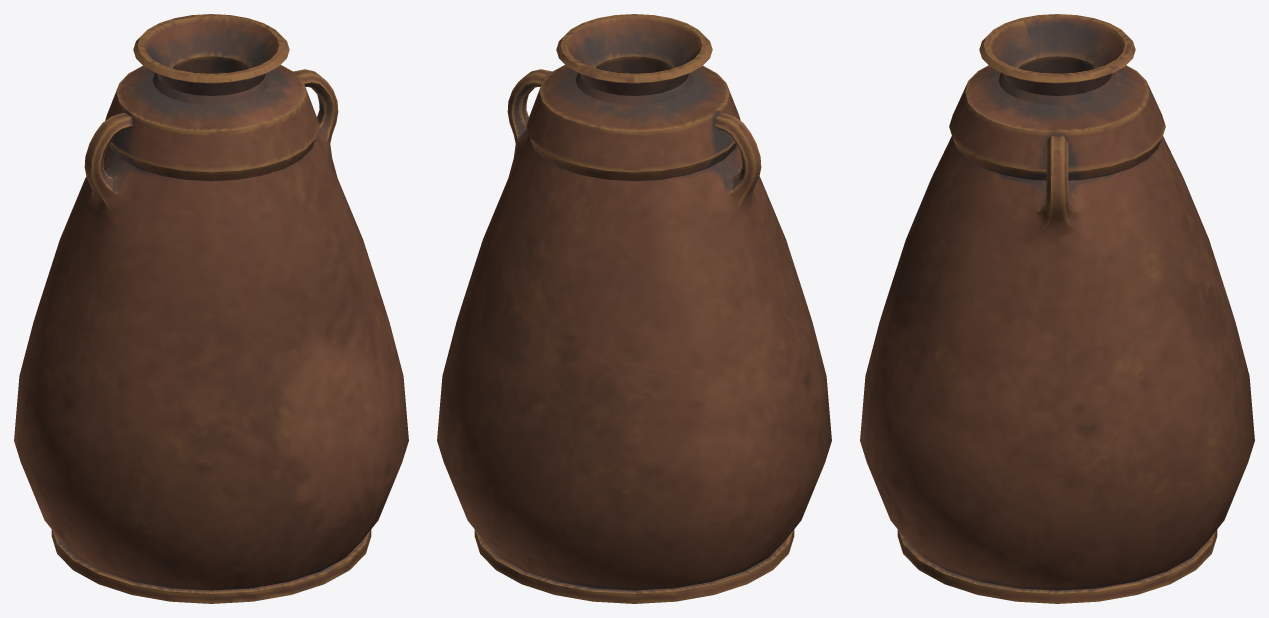
File: Mausoleum Vase 3.fbx
3 renders of one model, left to right at view 1: azimuth 30°, elevation 25°; view 2: azimuth 150°, elevation 25°; view 3: azimuth 270°, elevation 25°, orthographic.
Parts seen in each view (by area): view 1: Cylinder.002; view 2: Cylinder.002; view 3: Cylinder.002.
Part boxes in pixels (bbox=[...]): Cylinder.002: bbox=[14, 14, 408, 603]; Cylinder.002: bbox=[437, 14, 831, 603]; Cylinder.002: bbox=[860, 14, 1254, 603].
Size of the model in its own units: 59.04 by 81.03 by 59.04.
